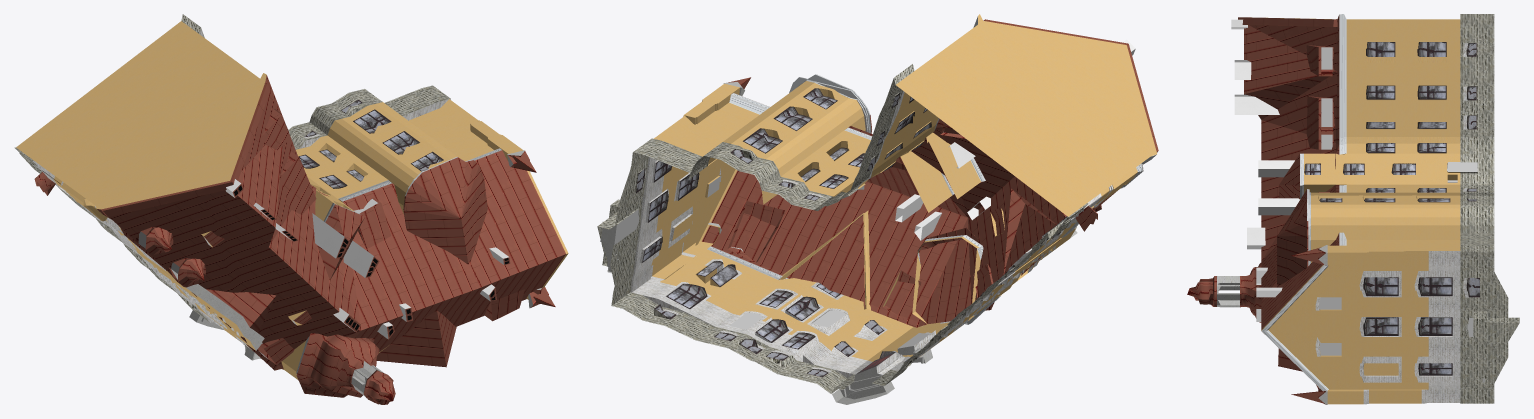
Rendered from Suur-Kloostri_22_1-origo.obj.
3 views of the same model, side by side, from view 1: azimuth 30°, elevation 25°; view 2: azimuth 150°, elevation 25°; view 3: azimuth 270°, elevation 25° (orthographic). The views are drawn at different scales.
Visible parts, largest first — view 1: Suur_kloostri_22_1; view 2: Suur_kloostri_22_1; view 3: Suur_kloostri_22_1.
Boxes of the visible parts, x1,y1,x2,y2 form: Suur_kloostri_22_1: (14,14,568,404); Suur_kloostri_22_1: (597,14,1158,404); Suur_kloostri_22_1: (1187,14,1519,404).
Size of the model in its own units: 35.94 by 24.5 by 24.34.
